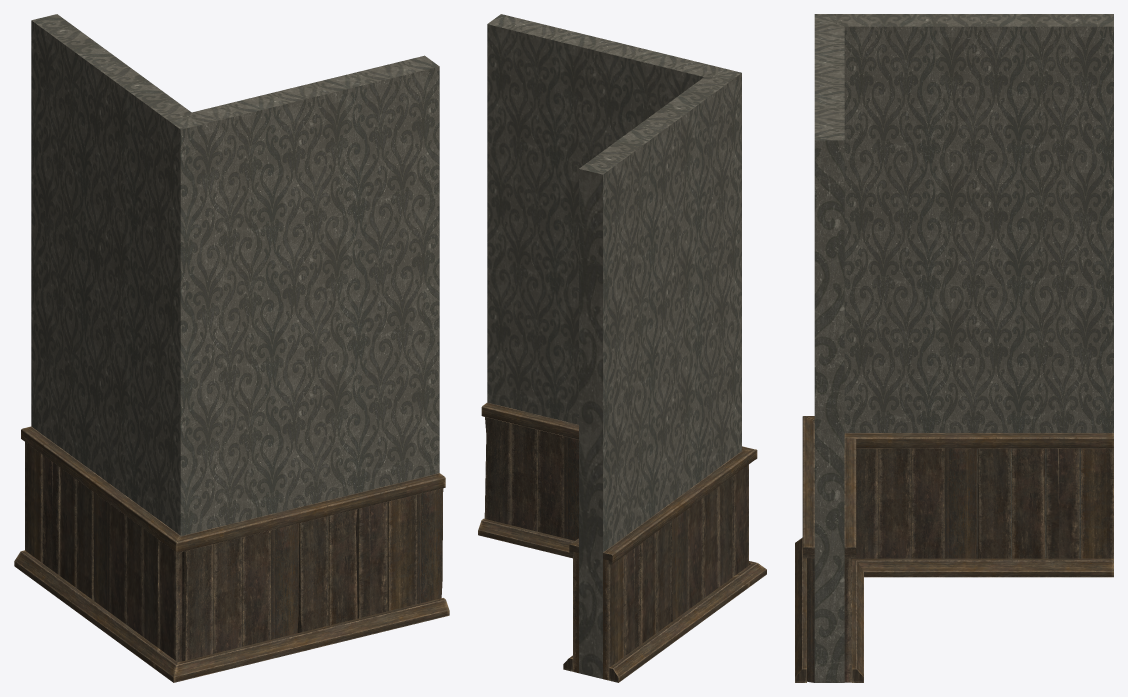
Rendered from SM_Wall_2m_Corn_IN.fbx.
3 renders of one model, left to right at view 1: azimuth 30°, elevation 25°; view 2: azimuth 150°, elevation 25°; view 3: azimuth 270°, elevation 25°, orthographic. The views are drawn at different scales.
Visible parts, largest first — view 1: SM_Wall_2m_Corn_IN; view 2: SM_Wall_2m_Corn_IN; view 3: SM_Wall_2m_Corn_IN.
Part boxes in pixels (x1,y1,x2,y2): SM_Wall_2m_Corn_IN: (14,14,449,682); SM_Wall_2m_Corn_IN: (478,14,766,682); SM_Wall_2m_Corn_IN: (795,14,1113,682).
Bounding box in the file's own units: 2.13 × 4 × 2.13.
